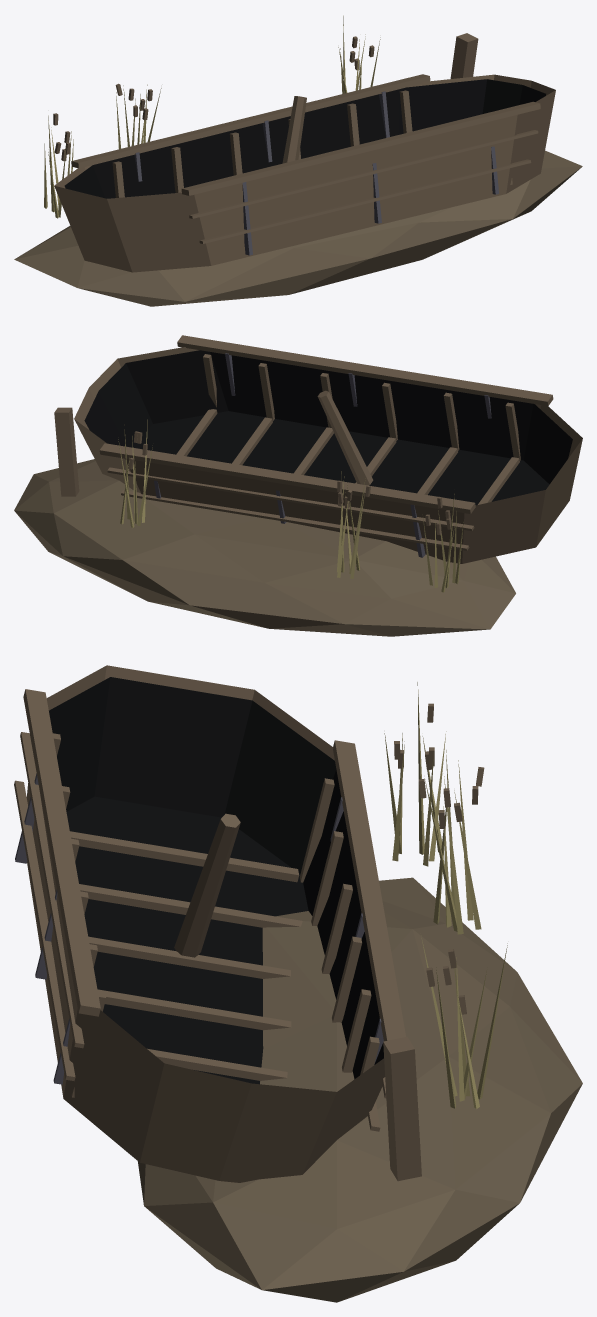
File: set_crossing.glb
3 renders of one model, top to bottom at view 1: azimuth 30°, elevation 25°; view 2: azimuth 150°, elevation 25°; view 3: azimuth 270°, elevation 25°, orthographic. The views are drawn at different scales.
Parts seen in each view (by area): view 1: set_crossing; view 2: set_crossing; view 3: set_crossing.
Boxes of the visible parts, x1,y1,x2,y2 form: set_crossing: [14, 15, 582, 306]; set_crossing: [14, 335, 582, 636]; set_crossing: [14, 665, 582, 1302].
Size of the model in its own units: 8.61 by 2.96 by 4.93.
